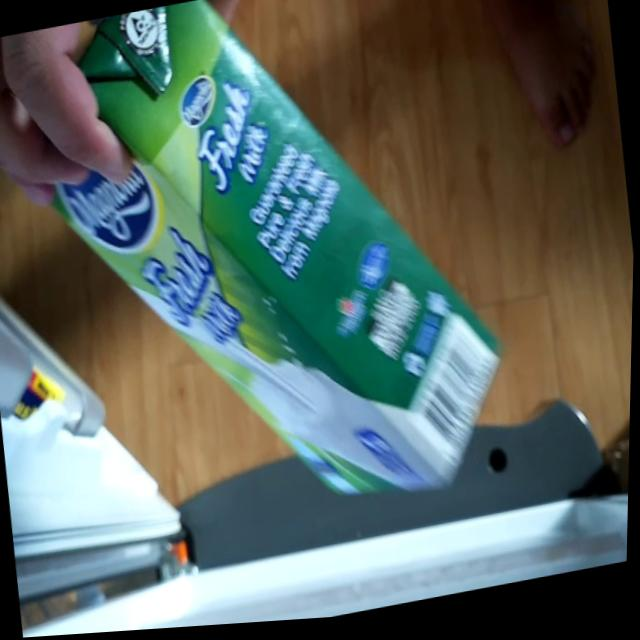milk: (0, 0, 529, 576)
